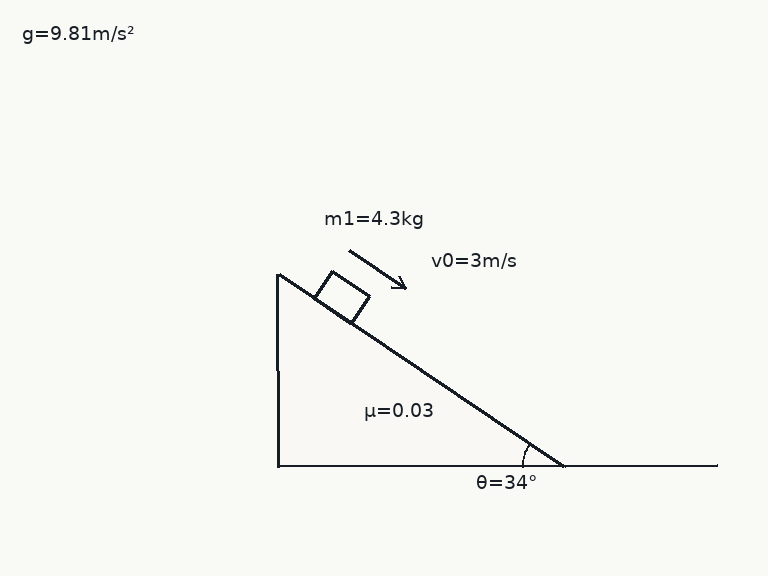block: (312, 269, 371, 325)
ramp: (276, 272, 565, 468)
